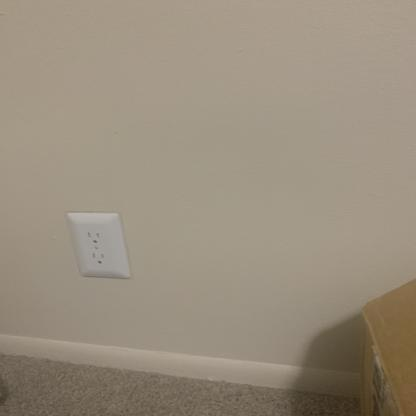OUTLET: (63, 212, 131, 278)
